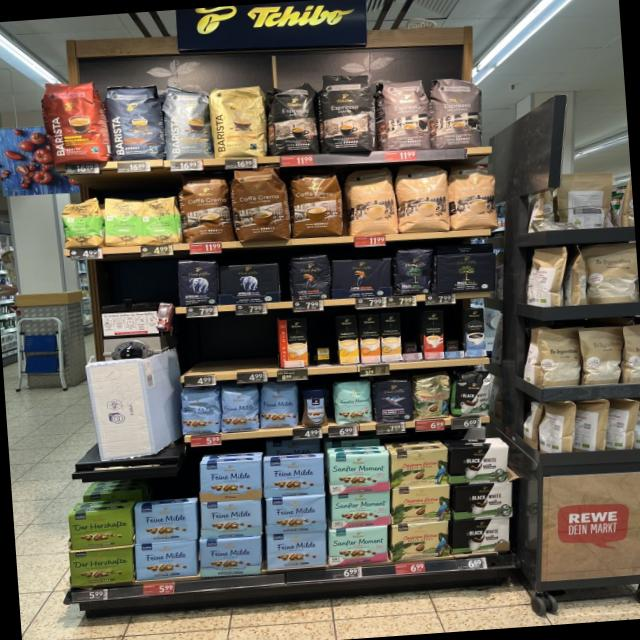AB Bohne: (174, 257, 220, 309)
AB Gemahlen: (217, 260, 281, 306)
Athiopien Bohne: (59, 195, 105, 251)
Athiopien Gemahlen: (138, 192, 184, 246), (100, 193, 142, 248)
BM Bohne: (392, 246, 433, 296)
BM Gemahlen: (432, 250, 498, 296), (450, 481, 514, 522), (448, 444, 510, 485), (450, 516, 512, 555)
BW Bohne: (448, 368, 491, 418)
Barista CB: (206, 81, 270, 162)
Barista CC: (160, 82, 214, 164)
Barista Espresso: (103, 80, 166, 164)
Barista Kolumbien: (38, 76, 112, 168)
C Fino Bohne: (370, 376, 414, 424)
CC Mild: (340, 165, 400, 239), (394, 162, 451, 234), (446, 160, 502, 232)
CC Vollmundig 36 Pads: (230, 165, 294, 245), (178, 170, 236, 246), (288, 168, 346, 240)
Colombia BB Bohne: (410, 370, 453, 421)
Colombia BB Gemahlen: (390, 482, 452, 525), (390, 520, 451, 562), (389, 447, 449, 489)
Empty Shelf: (185, 318, 277, 374), (306, 316, 338, 366), (442, 308, 466, 358), (400, 312, 423, 361)
Espresso Aromatisch: (427, 74, 486, 151), (374, 77, 432, 154)
Espresso Kraftig: (314, 70, 378, 158), (264, 80, 321, 158)
FM Bohne: (218, 380, 262, 434), (178, 384, 222, 437), (258, 380, 300, 430)
FM Gemahlen: (198, 458, 264, 502), (132, 501, 198, 544), (198, 498, 264, 540), (198, 536, 264, 578), (133, 540, 199, 580), (263, 456, 325, 498), (264, 494, 327, 535), (265, 530, 328, 570)
FM Instant: (298, 387, 330, 428)
Herzhatfe Mundig: (66, 510, 134, 550), (68, 548, 136, 586)
LG Bohne: (286, 252, 333, 302)
LG Gemahlen: (328, 254, 394, 300)
SM Bohne: (330, 378, 374, 425)
SM Gemahlen: (328, 452, 390, 495), (328, 524, 389, 566), (329, 490, 391, 529)
Simo CCMild bigpack: (334, 314, 360, 364)
Simo CCVollmundig: (276, 316, 310, 368)
Simo CCVollmundig bigpack: (356, 313, 382, 364)
Simo Decaff: (378, 312, 404, 362)
Simo Es Elegant: (420, 310, 444, 360)
Simo Kaffee Mild: (462, 306, 488, 358)
